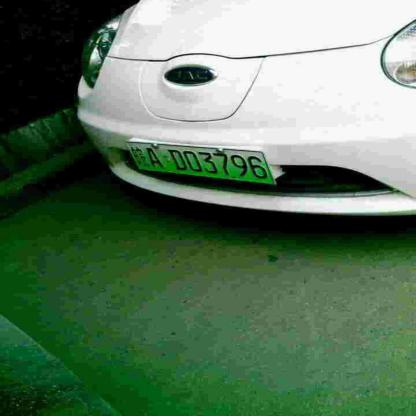lp: (124, 142, 276, 184)
